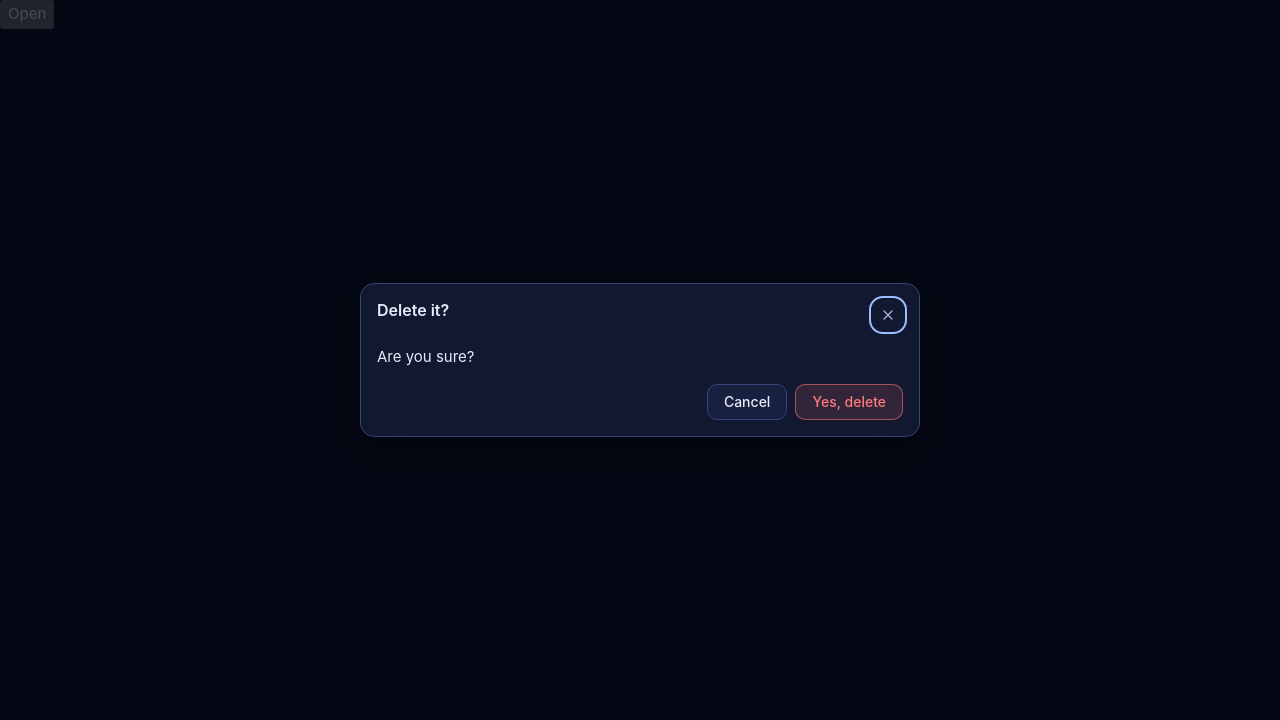
Test: Modal and ConfirmDialog › closes from the close button and does not render content while closed
Click the button named "Close dialog": (888, 315) 873,300 -> 903,330
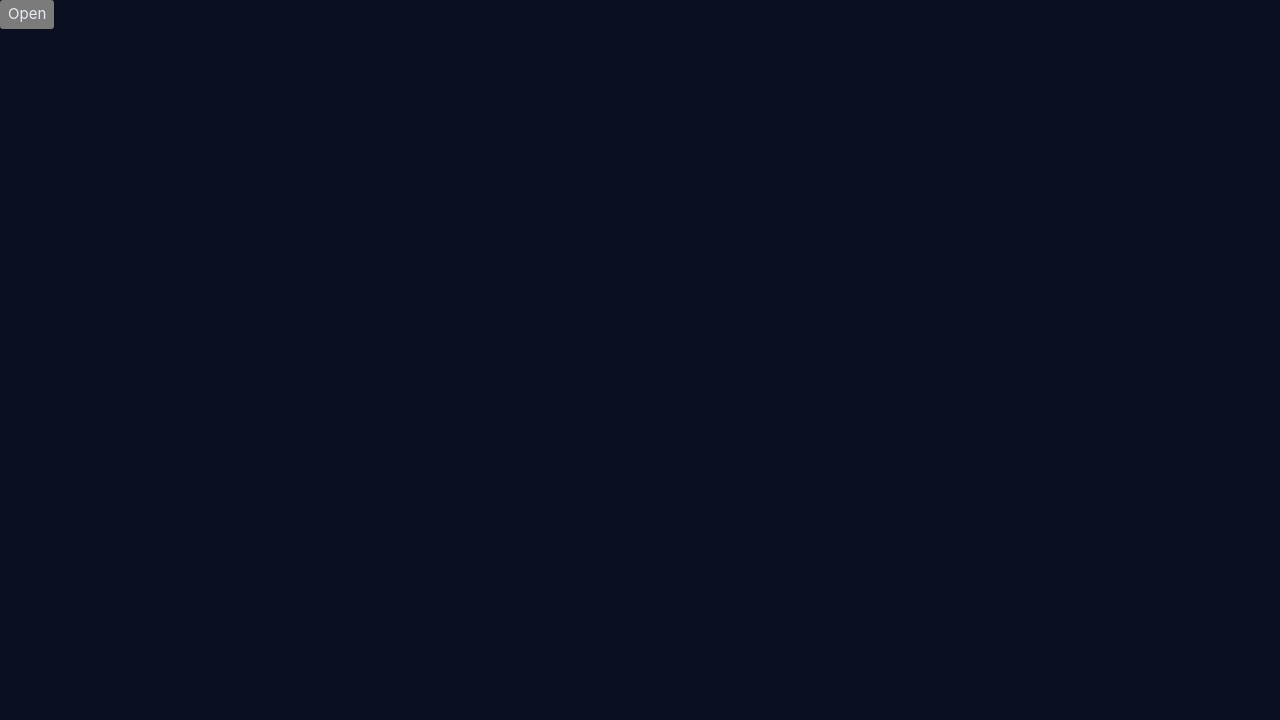
Expected: the text "Are you sure?" is gone
